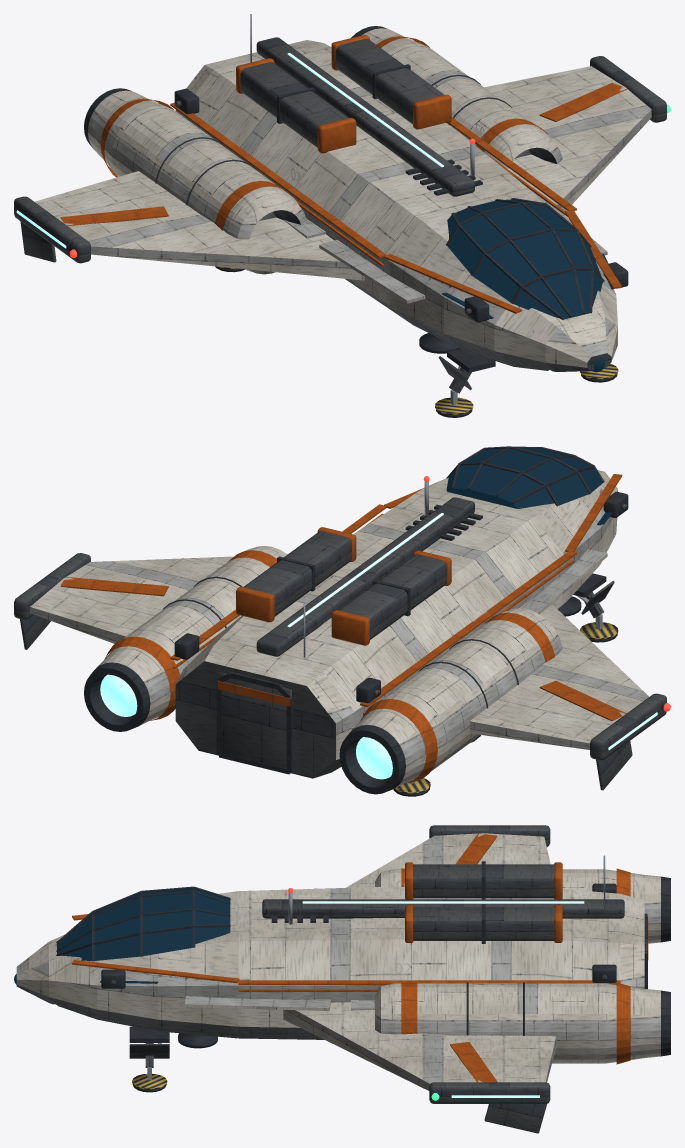
File: ship_jumper.glb
3 views of the same model, one above another, from view 1: azimuth 30°, elevation 25°; view 2: azimuth 150°, elevation 25°; view 3: azimuth 270°, elevation 25° (orthographic). The views are drawn at different scales.
Visible parts, largest first — view 1: ship_jumper; view 2: ship_jumper, ramp; view 3: ship_jumper.
Boxes of the visible parts, left/top/right/bottom form: ship_jumper: left=14, top=14, right=670, bottom=417; ship_jumper: left=14, top=446, right=670, bottom=796; ramp: left=217, top=672, right=291, bottom=768; ship_jumper: left=14, top=825, right=670, bottom=1133.
Size of the model in its own units: 15.74 by 5.08 by 16.32.
Materials: 15 (8 with a texture image).
